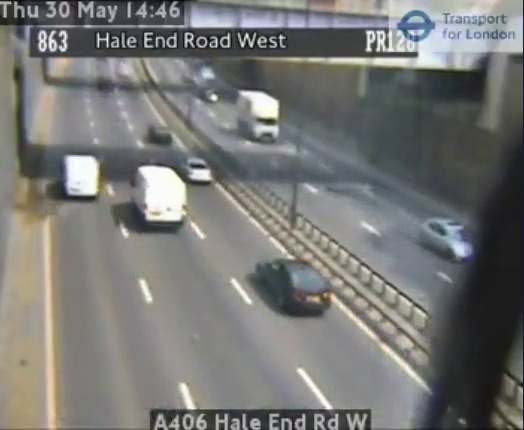car: (259, 260, 332, 312), (183, 156, 212, 182)
van: (132, 165, 187, 226), (62, 154, 100, 198)
